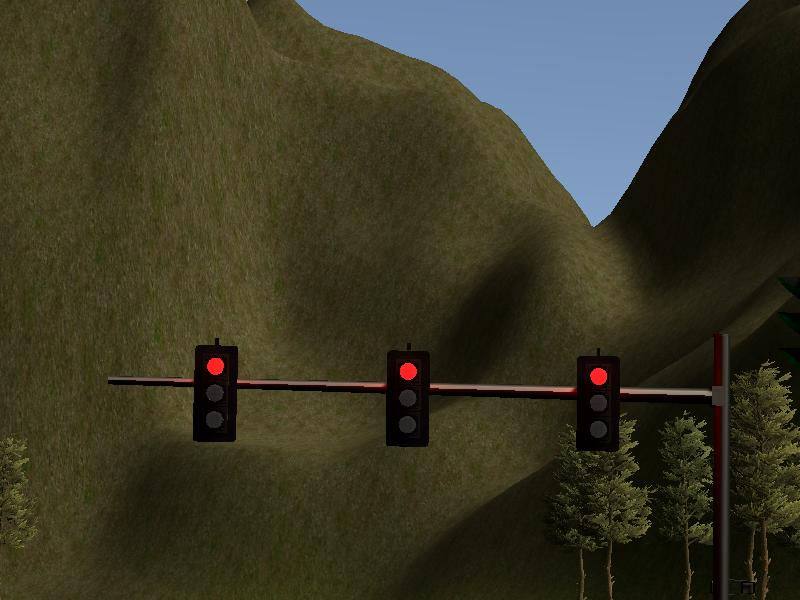Red: (387, 350, 429, 447), (195, 344, 236, 441), (579, 356, 619, 453)
